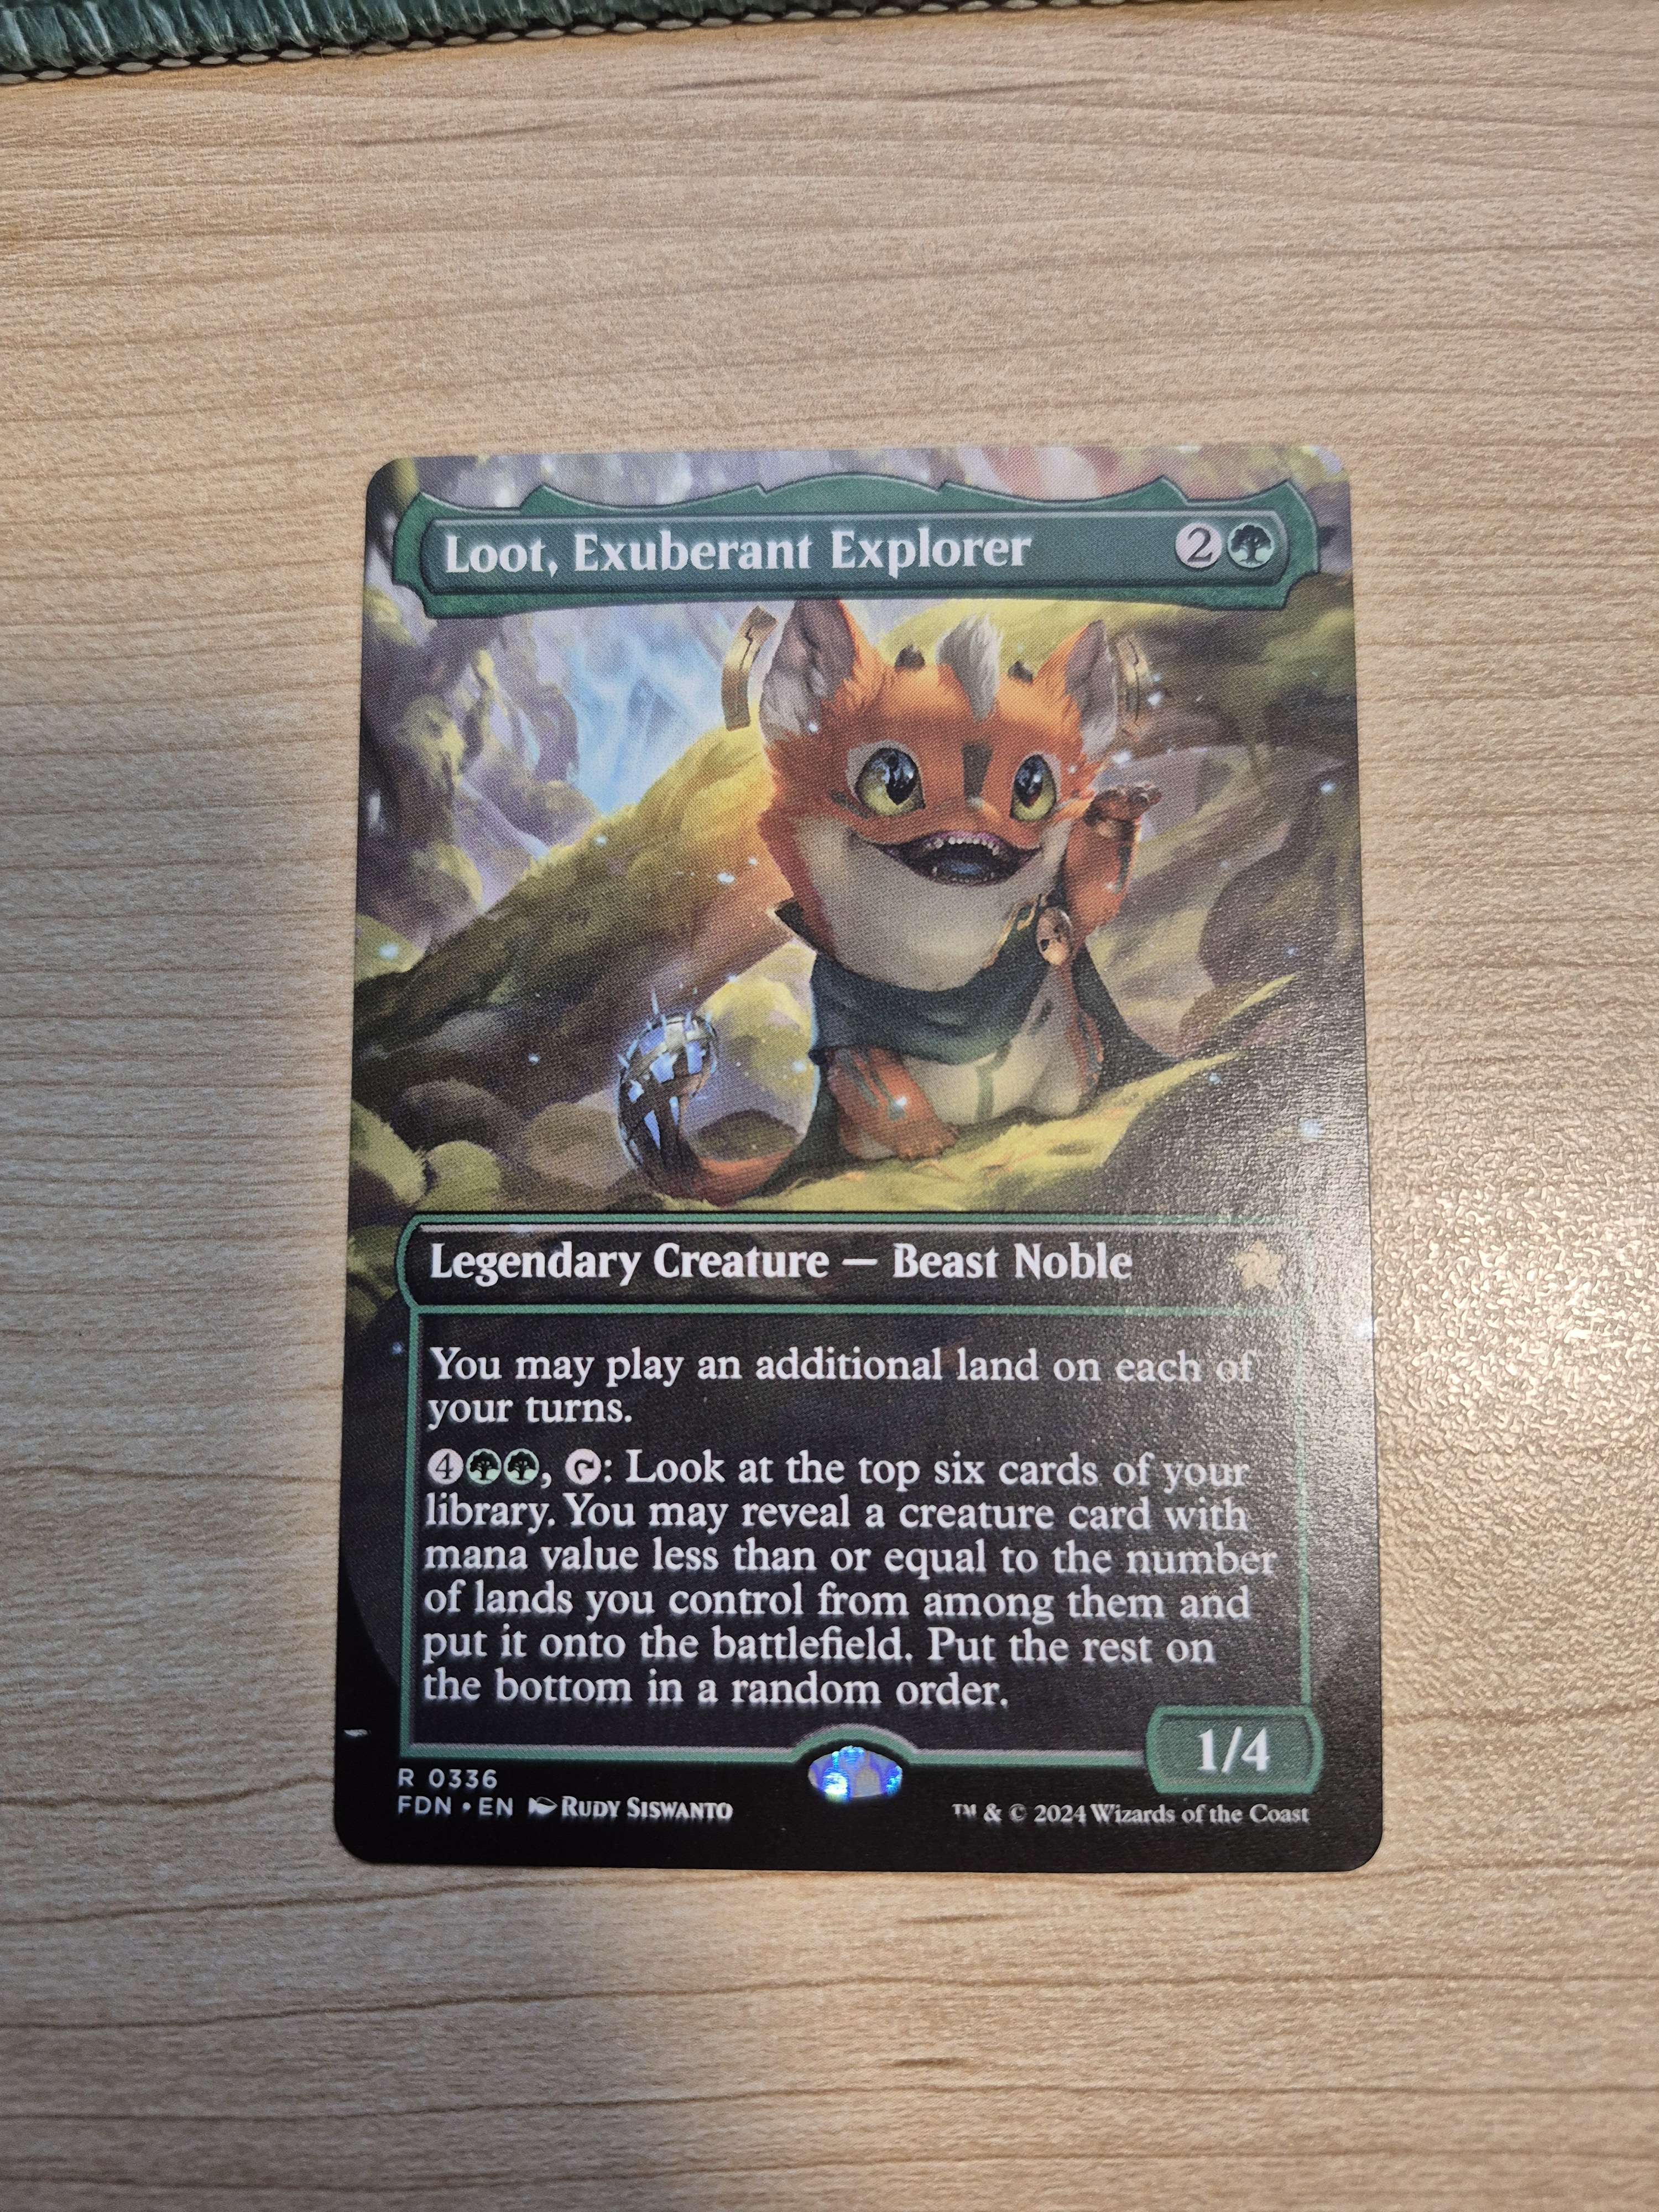mtg_card: (345, 416, 1438, 1881)
